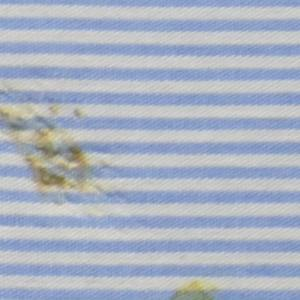Oil Stain: (1, 102, 103, 211), (170, 274, 222, 300)
